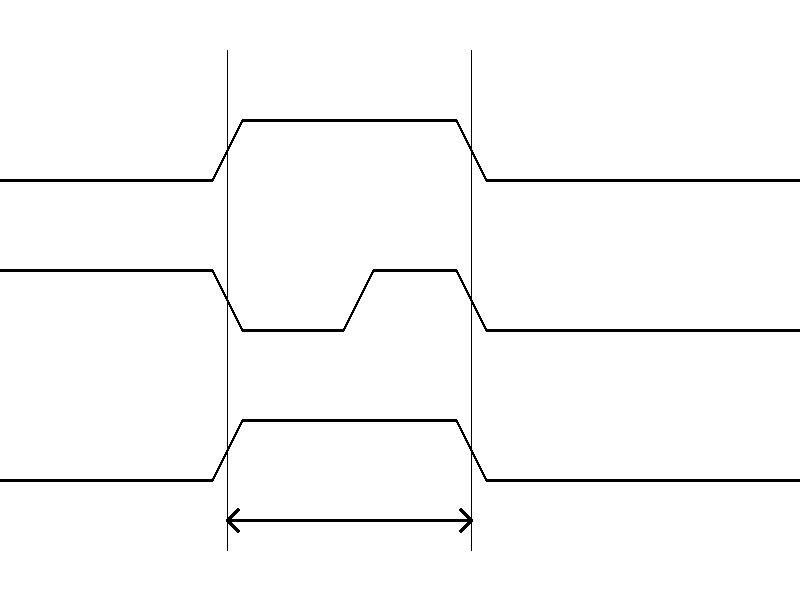double_arrow: (227, 505, 471, 535)
